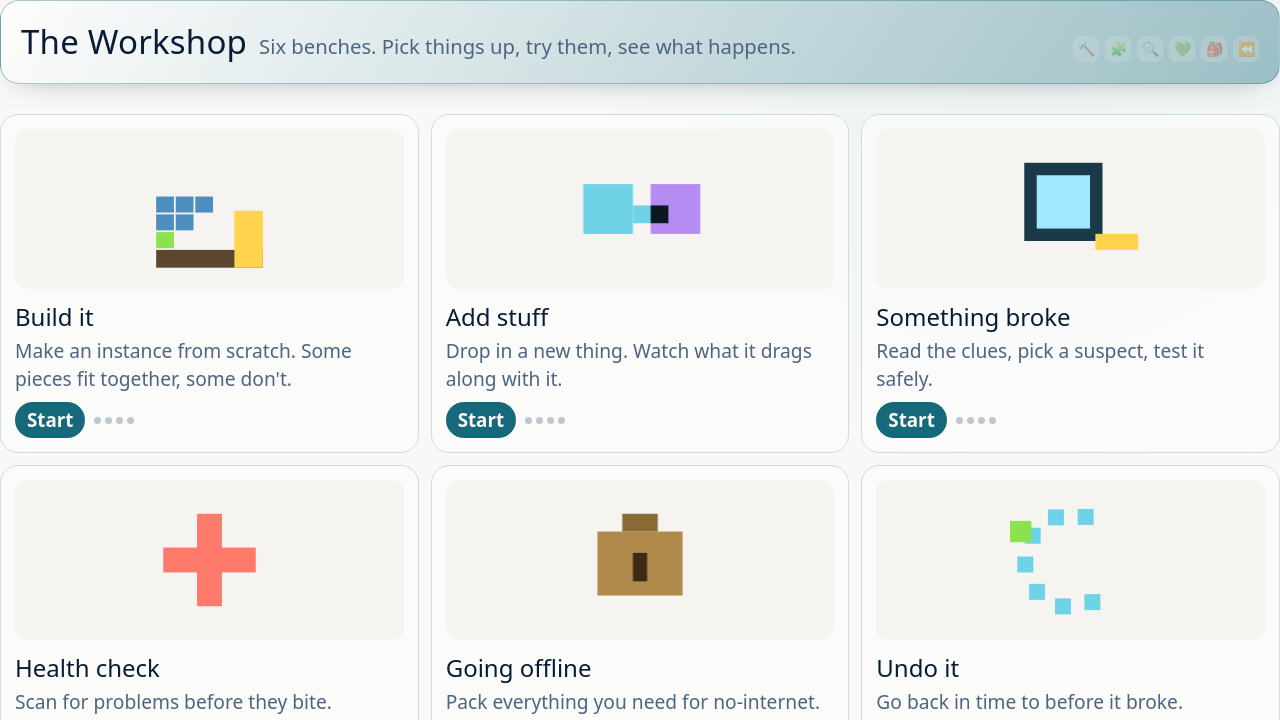
Test: Workshop › build bench: a wrong loader is rejected and the right loader snaps in
The image size is (1280, 720).
Click the heading "Build it": (54, 316) [15, 300, 94, 332]
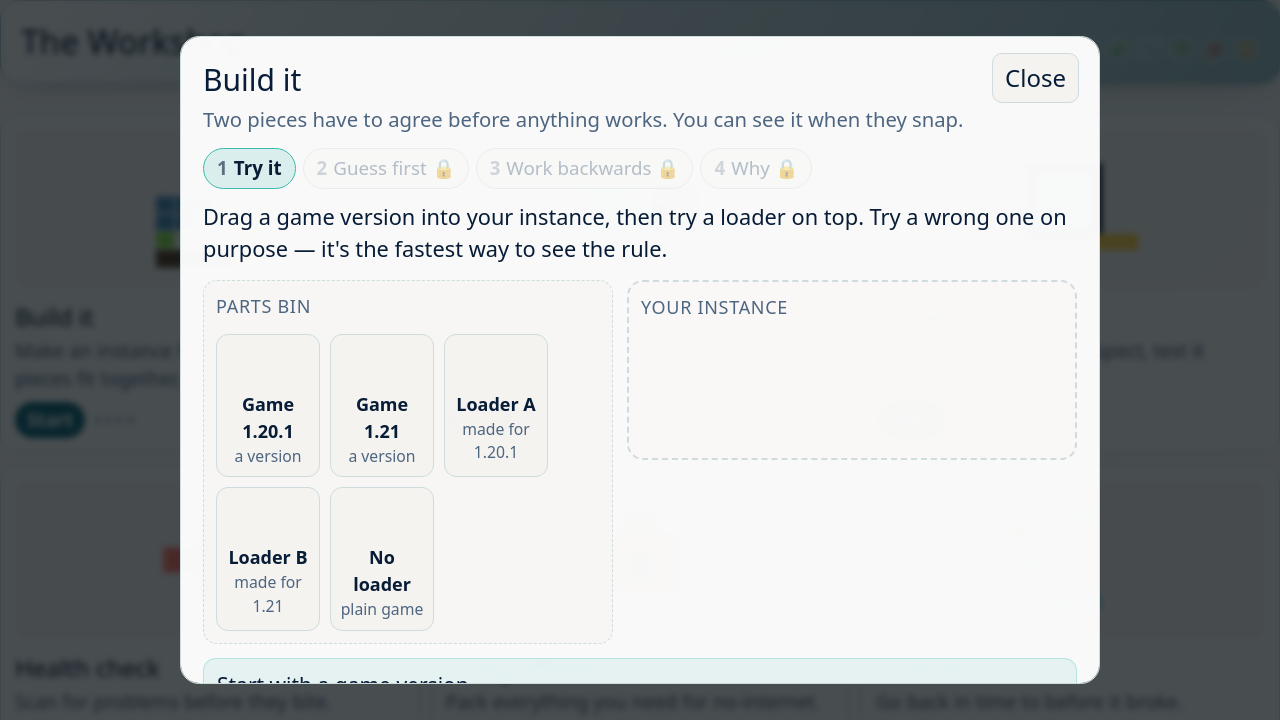
expect the dialog with class "show" is shown: met
Press Enter in the element with class "ws-piece" showing "Game 1.20.1 a version", box [216, 334, 320, 477]
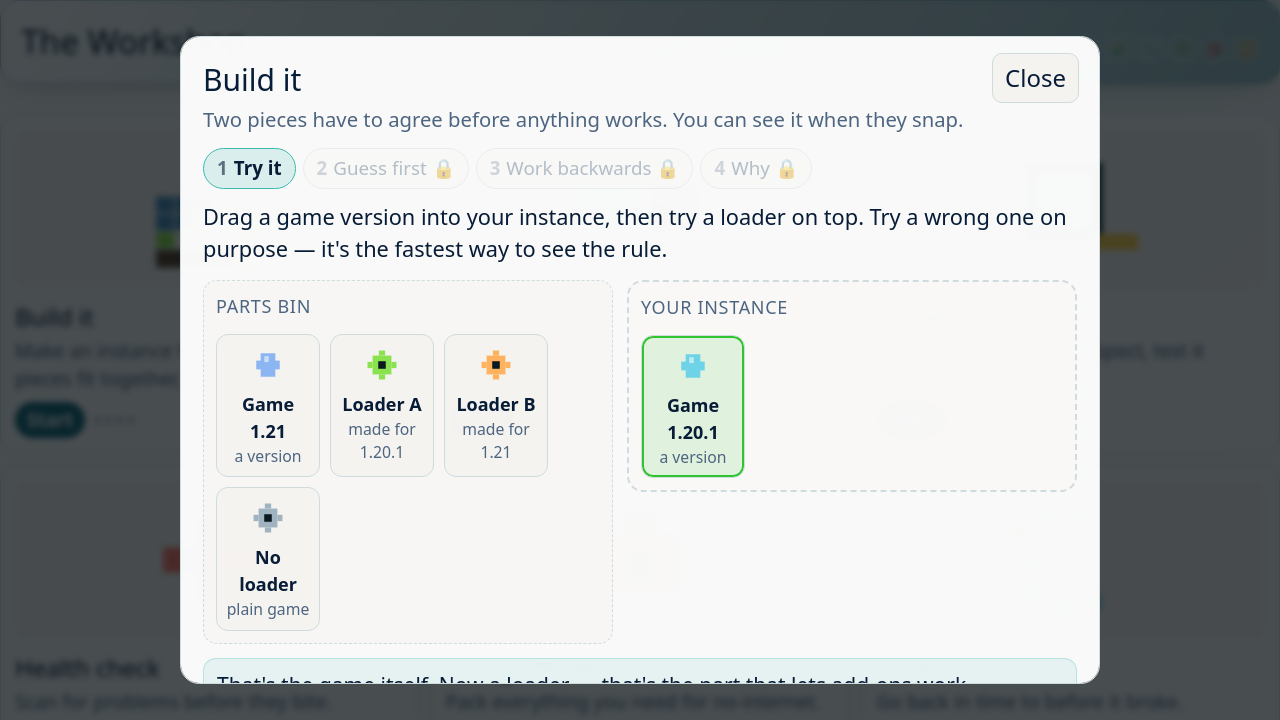
Press Enter in the element with class "ws-piece" showing "Loader B made for 1.21", box [444, 334, 548, 477]
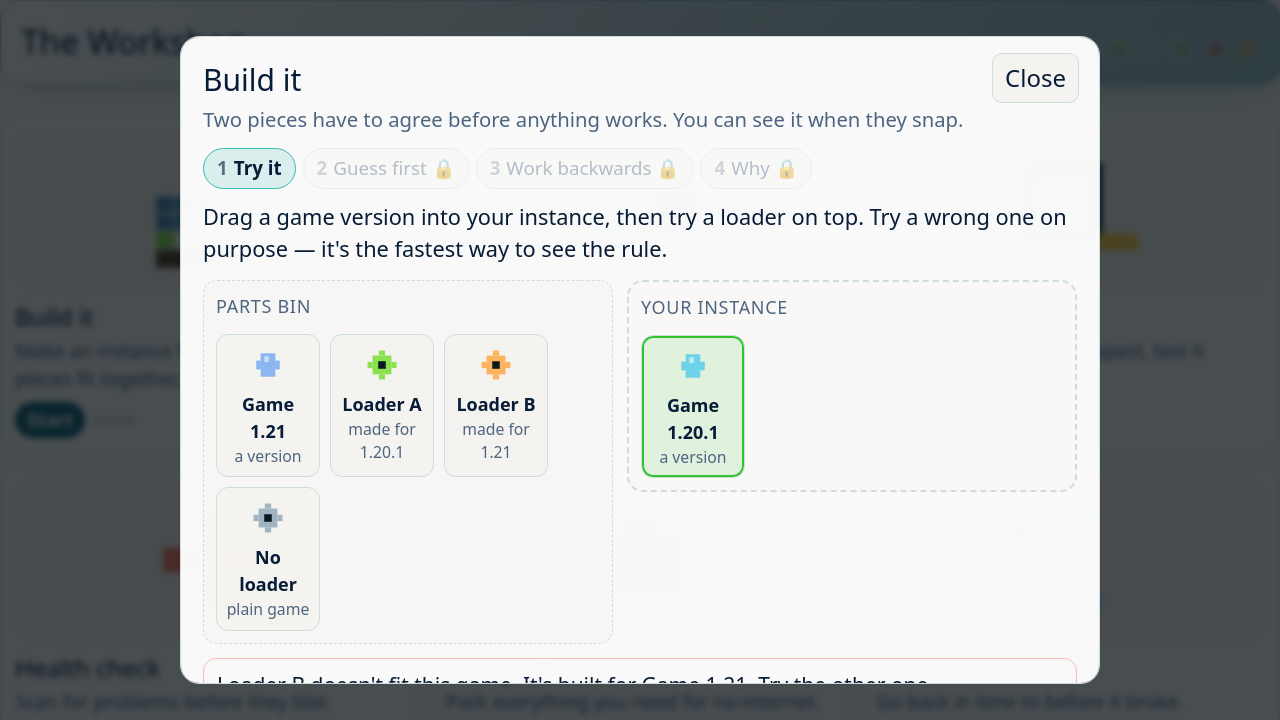
Press Enter in the element with class "ws-piece" showing "Loader A made for 1.20.1", box [330, 334, 434, 477]
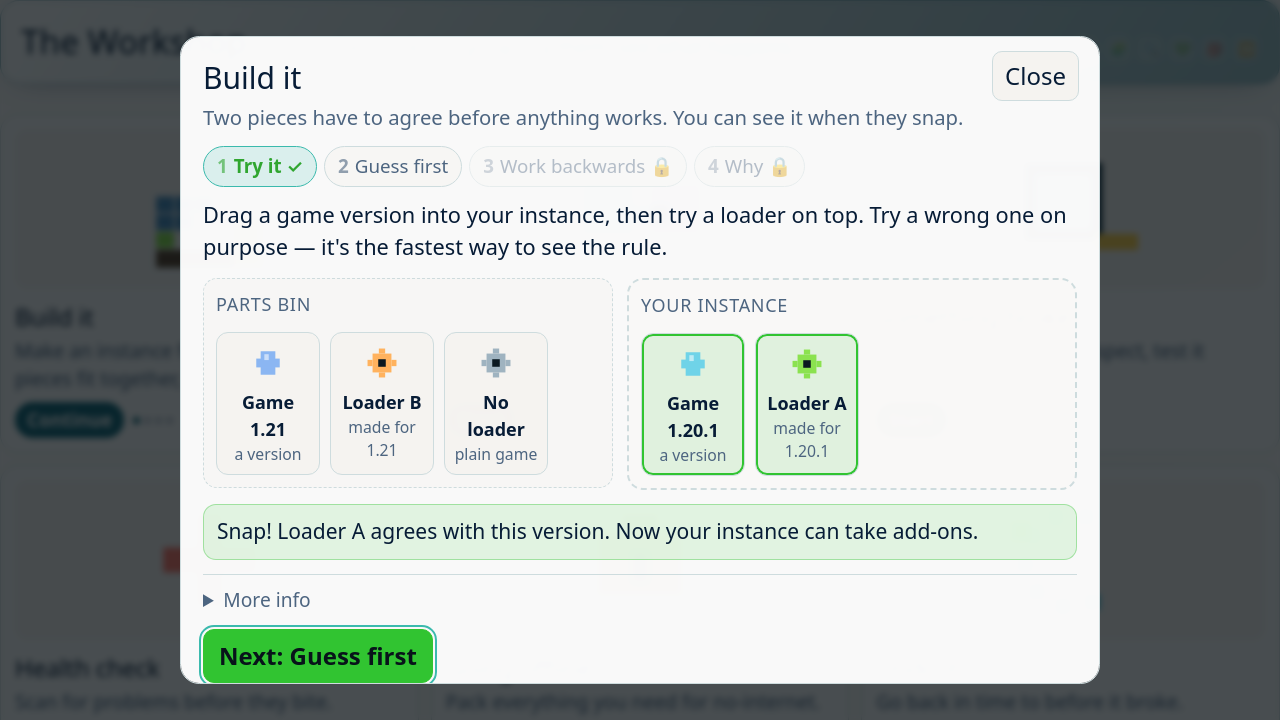
expect the text with class "ws-say" shows "can take add-ons": met, box [217, 517, 978, 545]
